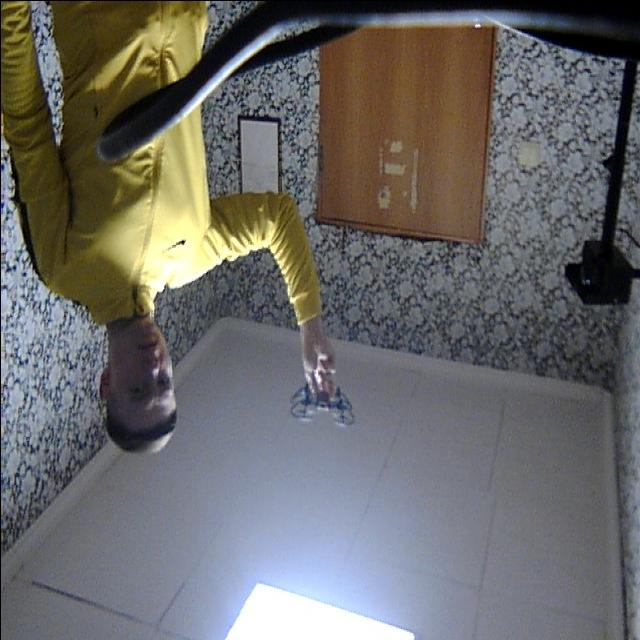drone: (282, 369, 364, 443)
